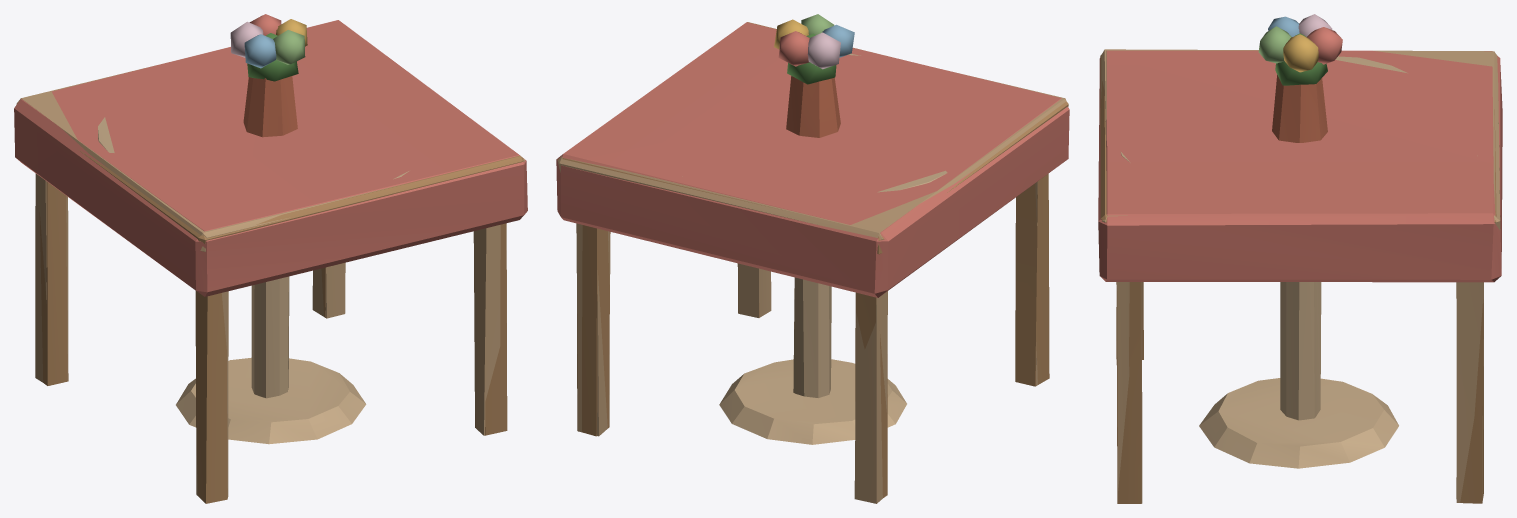
Rendered from table.glb.
3 views of the same model, side by side, from view 1: azimuth 30°, elevation 25°; view 2: azimuth 150°, elevation 25°; view 3: azimuth 270°, elevation 25° (orthographic). The views are drawn at different scales.
Visible parts, largest first — view 1: table.v2.mesh, table.v1.mesh, table.v0.mesh; view 2: table.v2.mesh, table.v0.mesh, table.v1.mesh; view 3: table.v2.mesh, table.v1.mesh, table.v0.mesh.
Boxes of the visible parts, bbox=[...] form: table.v2.mesh: bbox=[14, 14, 527, 503]; table.v1.mesh: bbox=[98, 117, 408, 444]; table.v0.mesh: bbox=[16, 65, 524, 497]; table.v2.mesh: bbox=[556, 14, 1069, 497]; table.v0.mesh: bbox=[557, 73, 1066, 503]; table.v1.mesh: bbox=[682, 53, 947, 444]; table.v2.mesh: bbox=[1098, 14, 1502, 503]; table.v1.mesh: bbox=[1120, 56, 1477, 468]; table.v0.mesh: bbox=[1101, 49, 1500, 503].
Bounding box in the file's own units: 0.9778 × 1.07 × 0.9751.
